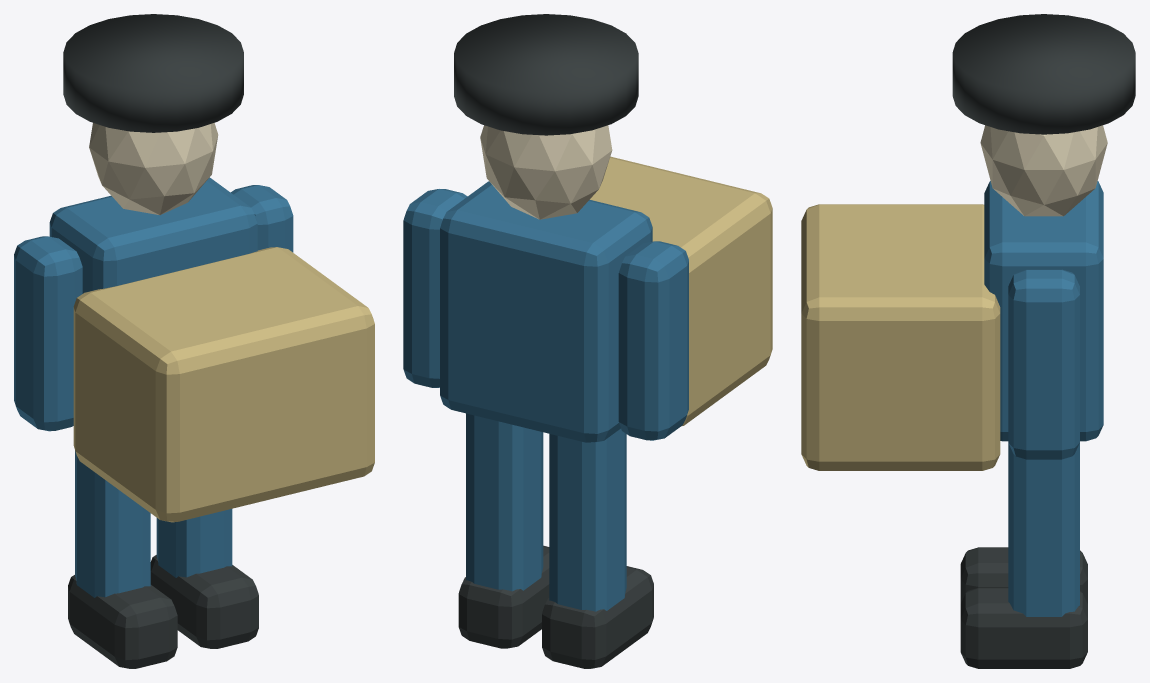
Rendered from porter.glb.
3 views of the same model, side by side, from view 1: azimuth 30°, elevation 25°; view 2: azimuth 150°, elevation 25°; view 3: azimuth 270°, elevation 25° (orthographic). The views are drawn at different scales.
Visible parts, largest first — view 1: porter_straw, porter_navy, porter_black, porter_plaster; view 2: porter_navy, porter_black, porter_straw, porter_plaster; view 3: porter_straw, porter_navy, porter_black, porter_plaster.
Boxes of the visible parts, x1,y1,x2,y2 form: porter_straw: [73, 247, 374, 522]; porter_navy: [14, 177, 293, 597]; porter_black: [63, 14, 258, 668]; porter_plaster: [89, 123, 218, 215]; porter_navy: [403, 181, 688, 611]; porter_black: [454, 14, 653, 668]; porter_straw: [590, 156, 772, 426]; porter_plaster: [480, 125, 612, 219]; porter_straw: [801, 204, 1000, 470]; porter_navy: [984, 181, 1103, 616]; porter_black: [952, 14, 1135, 668]; porter_plaster: [980, 125, 1107, 216].
Size of the model in its own units: 0.76 by 1.63 by 0.84.
